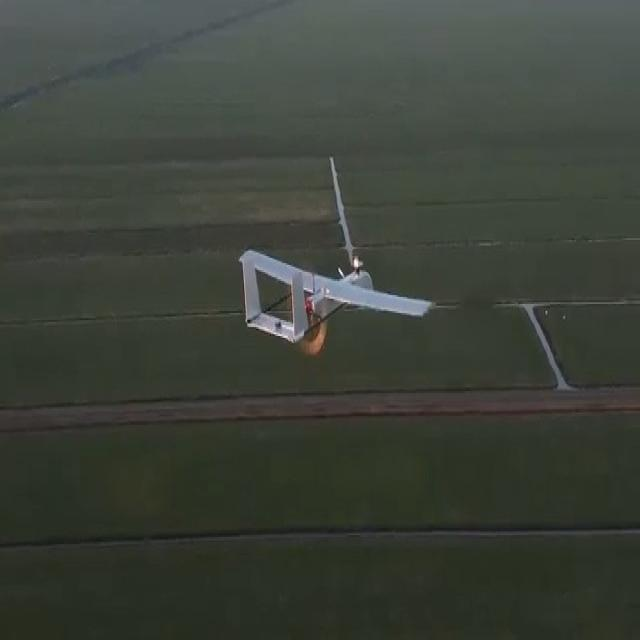iha: (245, 230, 432, 364)
